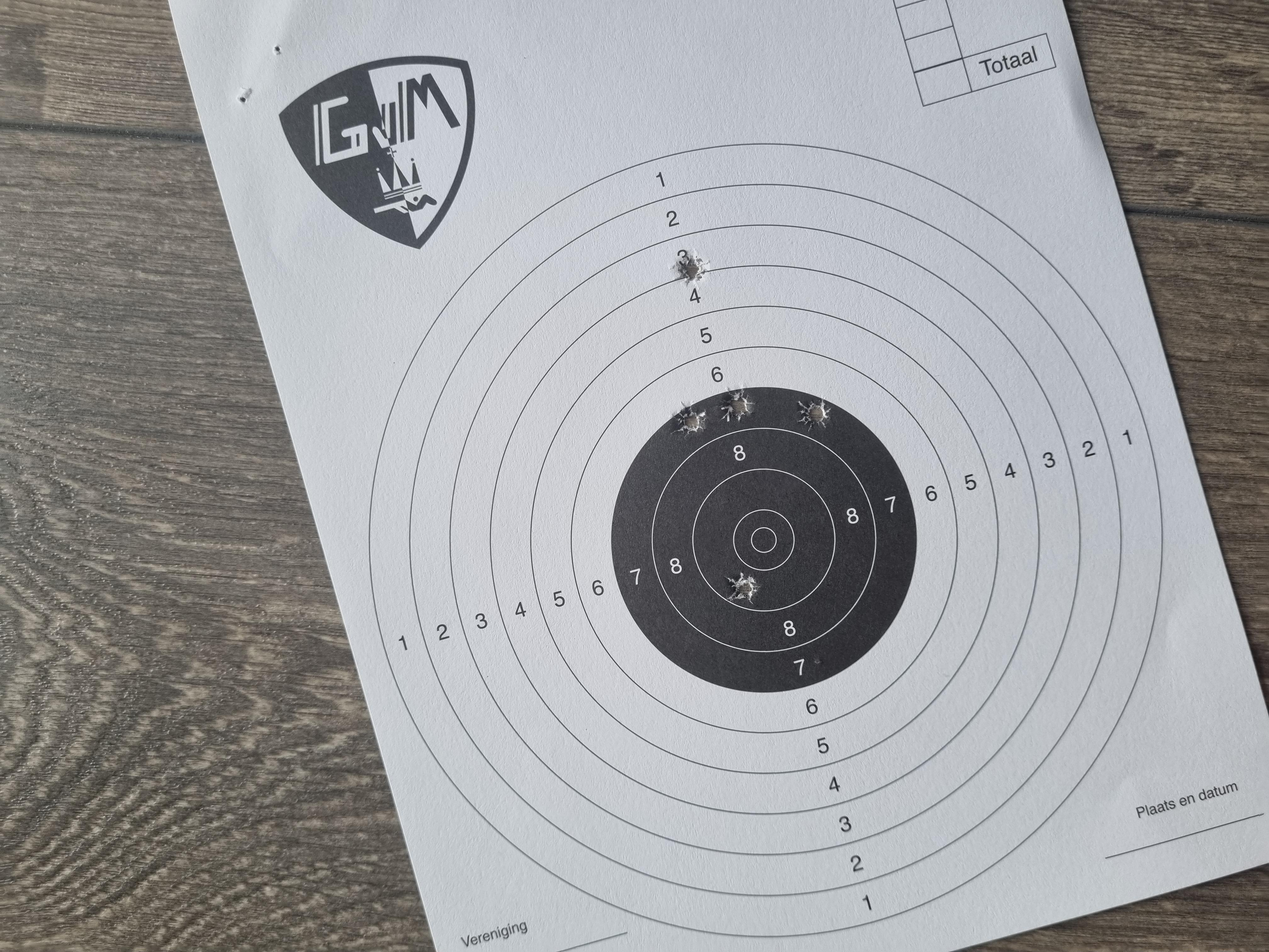hole: (889, 505, 935, 532), (708, 539, 753, 565), (463, 542, 506, 569), (696, 597, 739, 623), (689, 505, 733, 530)
